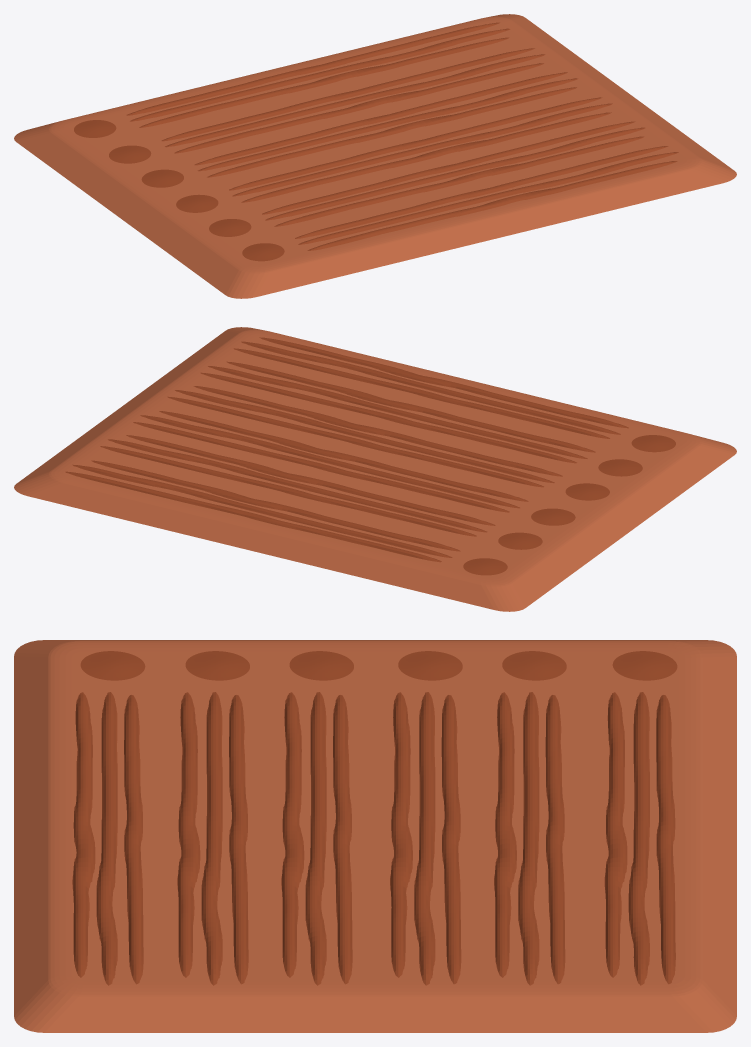
Rendered from TarlaAlani.fbx.
3 views of the same model, one above another, from view 1: azimuth 30°, elevation 25°; view 2: azimuth 150°, elevation 25°; view 3: azimuth 270°, elevation 25° (orthographic). The views are drawn at different scales.
Visible parts, largest first — view 1: Cube.033, Plane.038, Plane, Plane.036, Plane.032, Plane.034, Plane.040, Plane.041, Plane.033, Plane.035, Plane.037, Plane.025 (+1 smaller); view 2: Cube.033, Plane.032, Plane.034, Plane.040, Plane.036, Plane, Plane.038, Plane.037, Plane.039, Plane.025, Plane.033, Plane.035 (+1 smaller); view 3: Cube.033, Plane.040, Plane.036, Plane.038, Plane.034, Plane.032, Plane, Plane.033, Plane.035, Plane.025, Plane.037, Plane.039 (+1 smaller).
Part boxes in pixels (<box>): Cube.033: <box>14,14,736,298</box>; Plane.038: <box>262,121,645,226</box>; Plane: <box>126,22,510,127</box>; Plane.036: <box>229,97,612,202</box>; Plane.032: <box>161,48,545,153</box>; Plane.034: <box>194,72,578,177</box>; Plane.040: <box>295,146,678,250</box>; Plane.041: <box>242,243,284,261</box>; Plane.033: <box>109,145,151,163</box>; Plane.035: <box>141,169,183,187</box>; Plane.037: <box>176,194,218,212</box>; Plane.025: <box>74,120,116,137</box>; Cube.033: <box>14,327,736,611</box>; Plane.032: <box>100,435,495,536</box>; Plane.034: <box>133,411,528,512</box>; Plane.040: <box>233,337,628,438</box>; Plane.036: <box>167,386,562,487</box>; Plane: <box>65,460,460,562</box>; Plane.038: <box>200,361,595,463</box>; Plane.037: <box>565,483,609,500</box>; Plane.039: <box>598,459,642,476</box>; Plane.025: <box>463,558,507,575</box>; Plane.033: <box>498,532,542,549</box>; Plane.035: <box>531,508,575,525</box>; Cube.033: <box>14,640,736,1032</box>; Plane.040: <box>72,692,143,985</box>; Plane.036: <box>281,692,352,985</box>; Plane.038: <box>177,692,248,985</box>; Plane.034: <box>390,692,461,985</box>; Plane.032: <box>494,692,565,985</box>; Plane: <box>604,692,675,985</box>; Plane.033: <box>502,651,566,680</box>; Plane.035: <box>398,651,462,680</box>; Plane.025: <box>612,651,677,680</box>; Plane.037: <box>289,651,353,680</box>; Plane.039: <box>185,651,249,680</box>.
Bounding box in the file's own units: 40.33 × 1.16 × 31.37.
